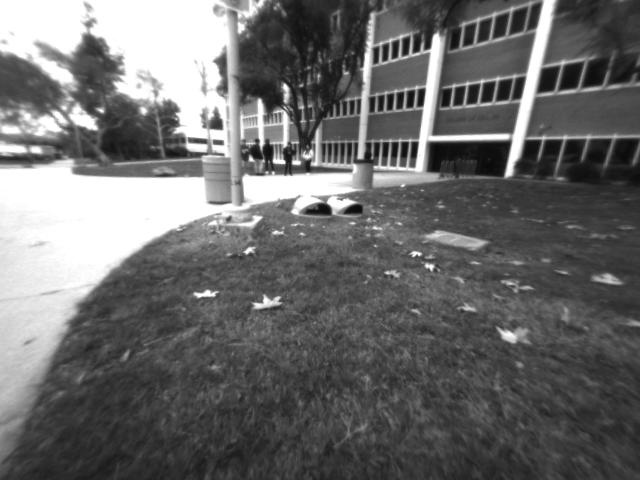trashcan: (197, 146, 232, 207), (348, 153, 375, 193)
